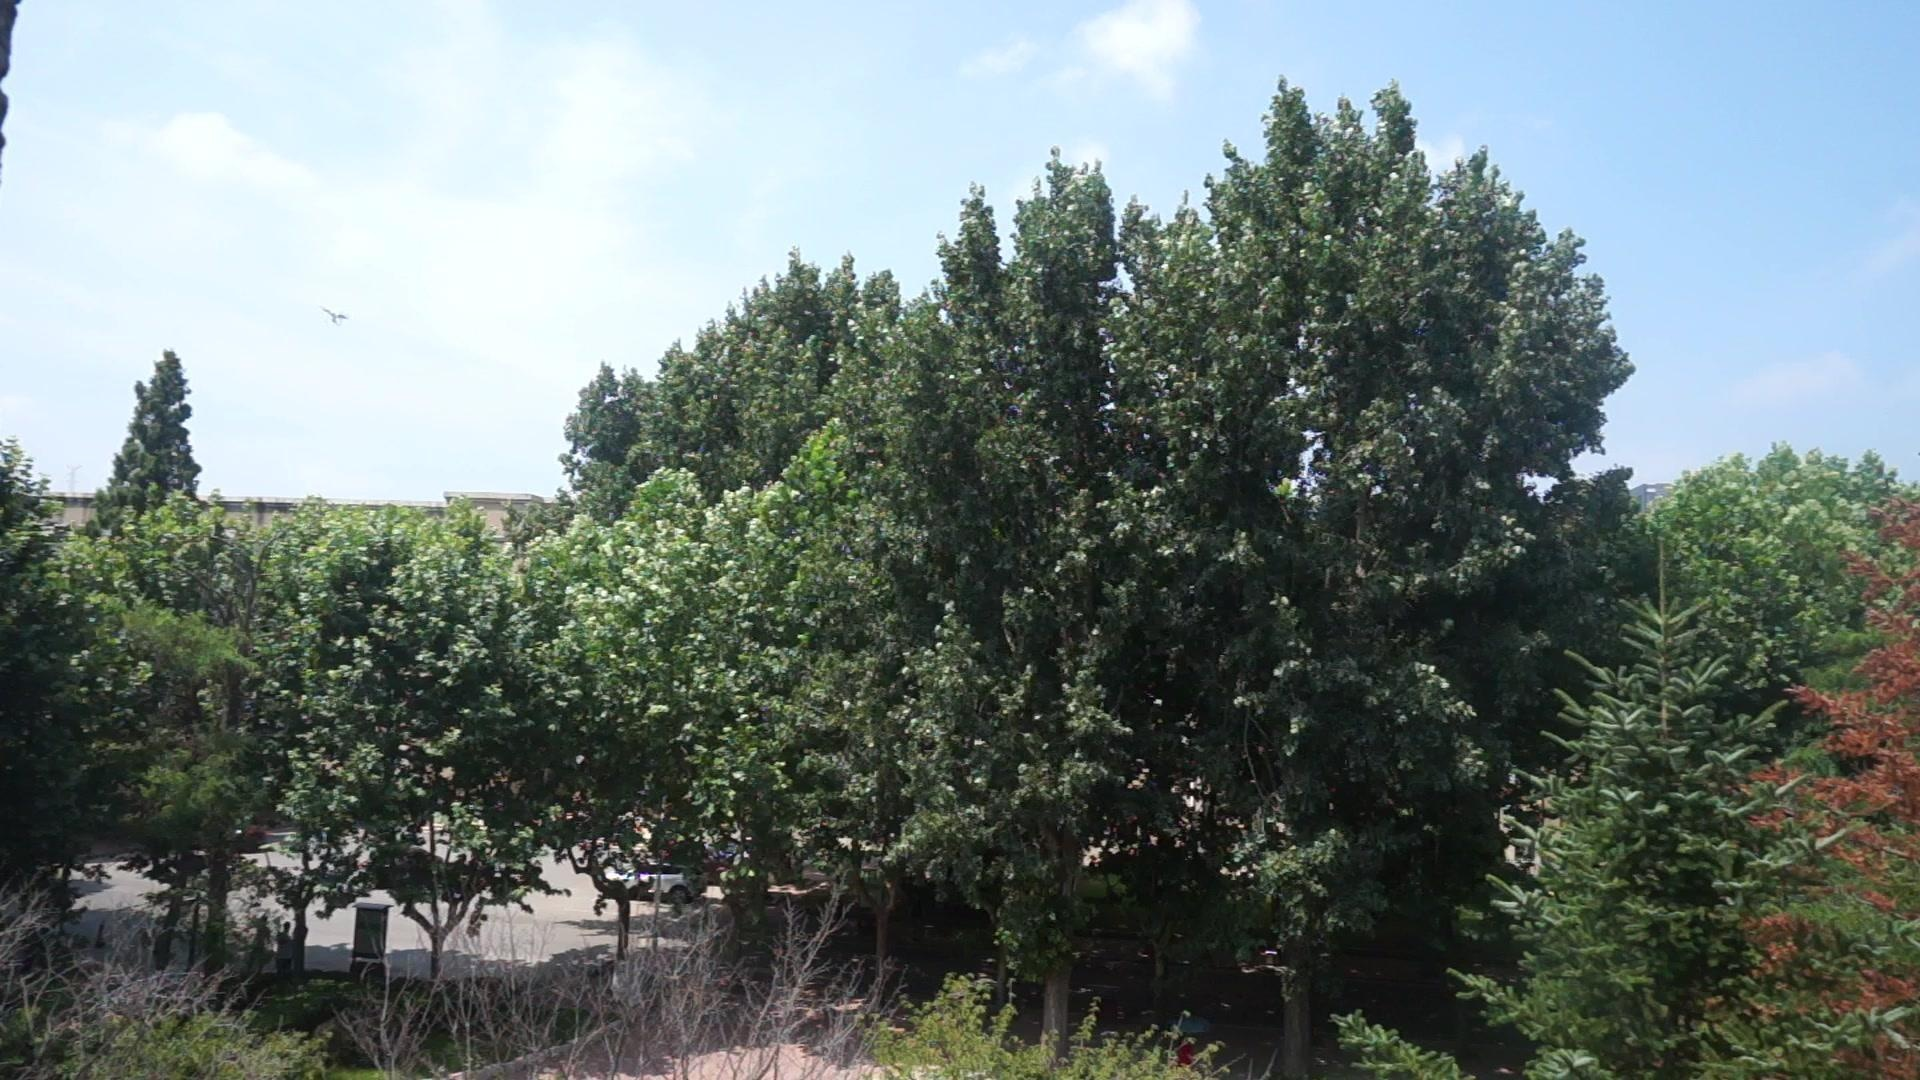UAV: (322, 309, 349, 326)
